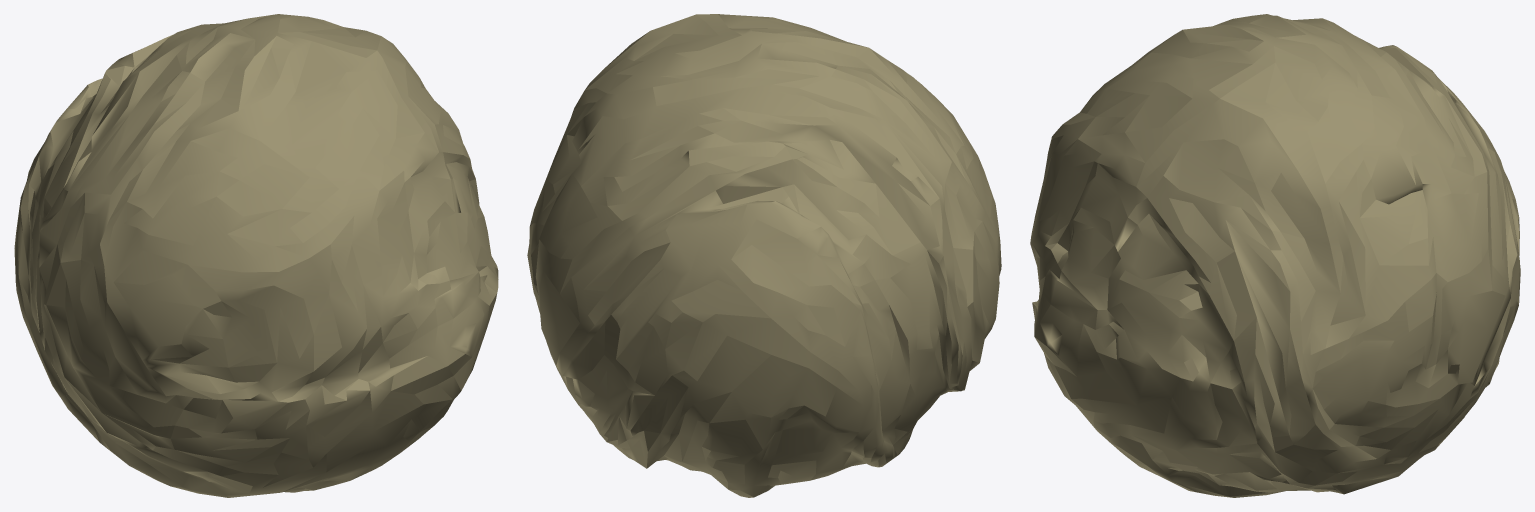
Rendered from Venus 1.fbx.
3 renders of one model, left to right at view 1: azimuth 30°, elevation 25°; view 2: azimuth 150°, elevation 25°; view 3: azimuth 270°, elevation 25°, orthographic. The views are drawn at different scales.
Visible parts, largest first — view 1: Retopo_Moon.004; view 2: Retopo_Moon.004; view 3: Retopo_Moon.004.
Boxes of the visible parts, <box> form: Retopo_Moon.004: <box>14,14,498,497</box>; Retopo_Moon.004: <box>527,14,1001,497</box>; Retopo_Moon.004: <box>1030,14,1520,497</box>.
Size of the model in its own units: 87.56 by 88.2 by 86.96.
